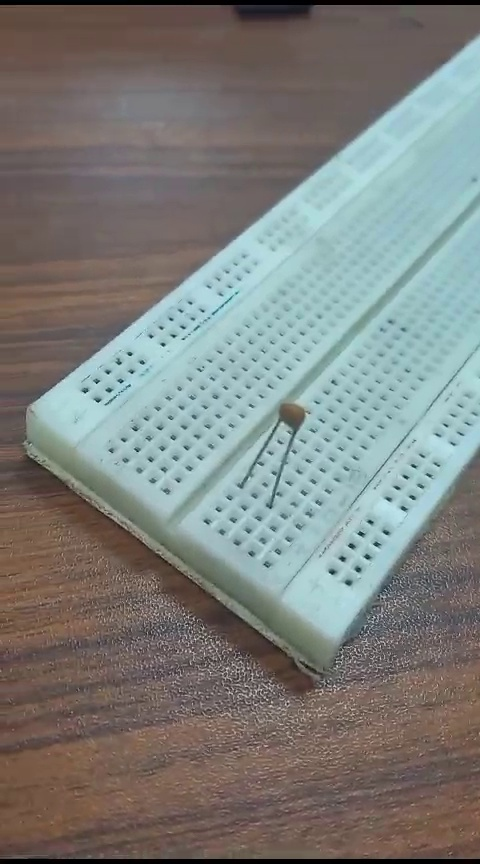ceramic capacitor: (264, 400, 327, 489)
